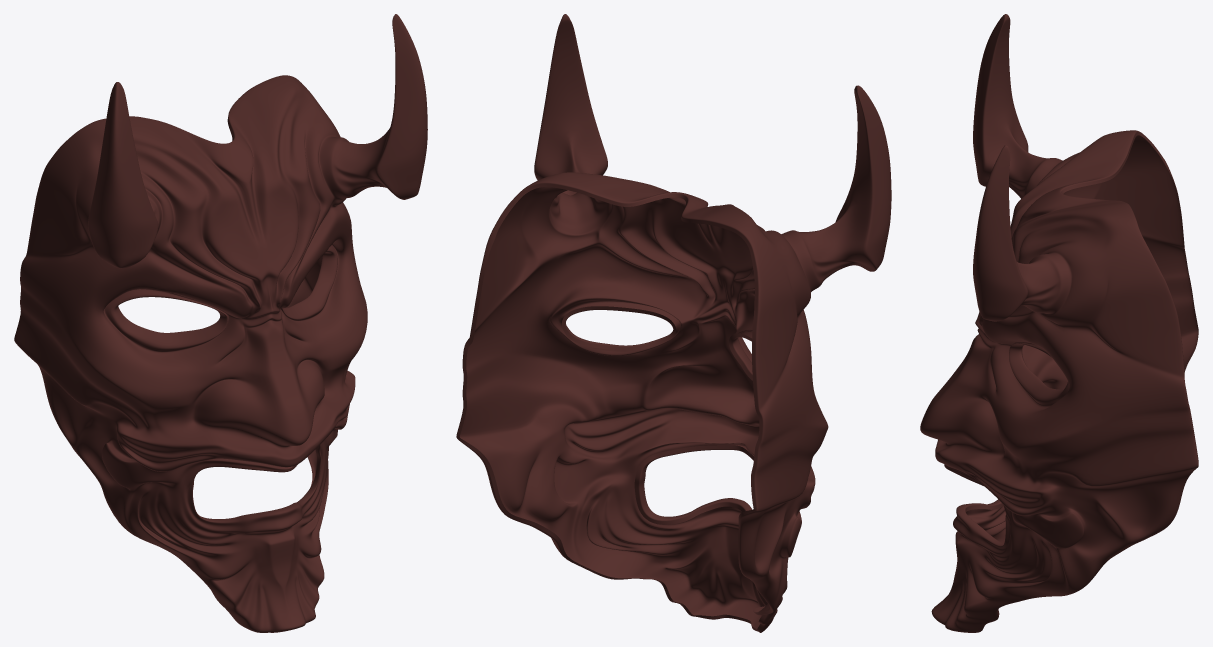
Rendered from Onimask.fbx.
The picture shows the model from 3 angles, left to right: view 1: azimuth 30°, elevation 25°; view 2: azimuth 150°, elevation 25°; view 3: azimuth 270°, elevation 25°; orthographic projection. The views are drawn at different scales.
Parts seen in each view (by area): view 1: Onimask.001; view 2: Onimask.001; view 3: Onimask.001.
Part boxes in pixels (x1=…): Onimask.001: x1=14, y1=14, x2=427, y2=632; Onimask.001: x1=456, y1=14, x2=891, y2=632; Onimask.001: x1=920, y1=14, x2=1198, y2=632.
Size of the model in its own units: 2501 by 4136 by 1925.
